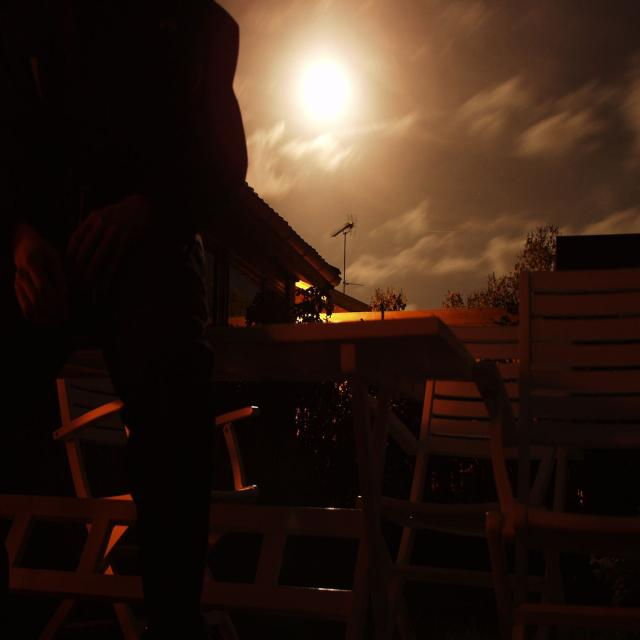People: (54, 0, 241, 631)
Table: (186, 283, 472, 640)
chair: (488, 184, 640, 640), (2, 341, 151, 640), (399, 323, 524, 640)
